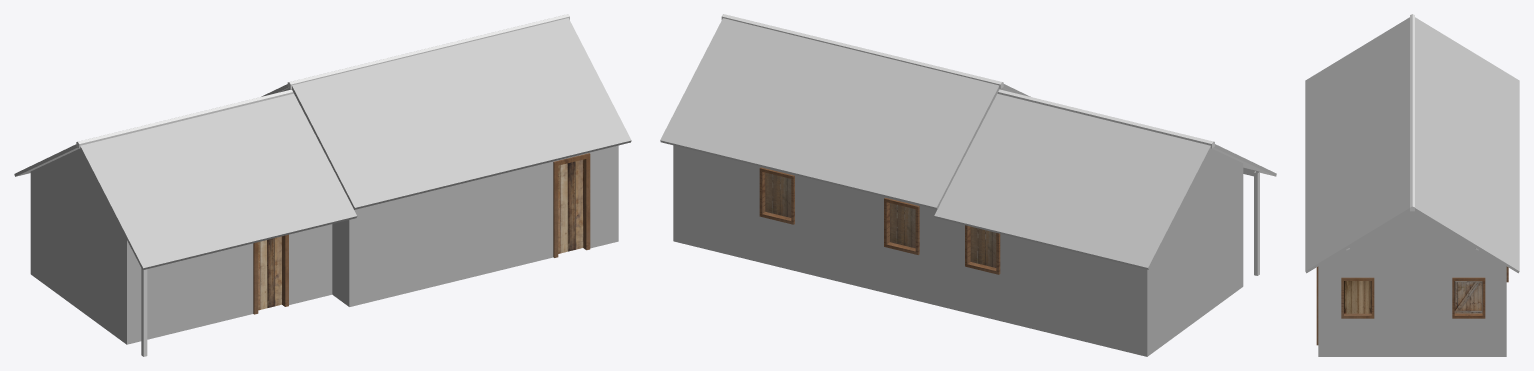
File: 10_casa.fbx
3 renders of one model, left to right at view 1: azimuth 30°, elevation 25°; view 2: azimuth 150°, elevation 25°; view 3: azimuth 270°, elevation 25°, orthographic. The views are drawn at different scales.
Parts seen in each view (by area): view 1: telhado, 10_casa_LOD0; view 2: telhado, 10_casa_LOD0; view 3: telhado, 10_casa_LOD0.
Part boxes in pixels (left/top/right/bottom): telhado: left=14, top=18, right=631, bottom=269; 10_casa_LOD0: left=30, top=14, right=618, bottom=356; telhado: left=660, top=18, right=1276, bottom=269; 10_casa_LOD0: left=673, top=14, right=1259, bottom=356; telhado: left=1305, top=17, right=1519, bottom=273; 10_casa_LOD0: left=1316, top=14, right=1508, bottom=356.
Size of what is drawn, in the model's own units: 1094 by 393 by 498.
